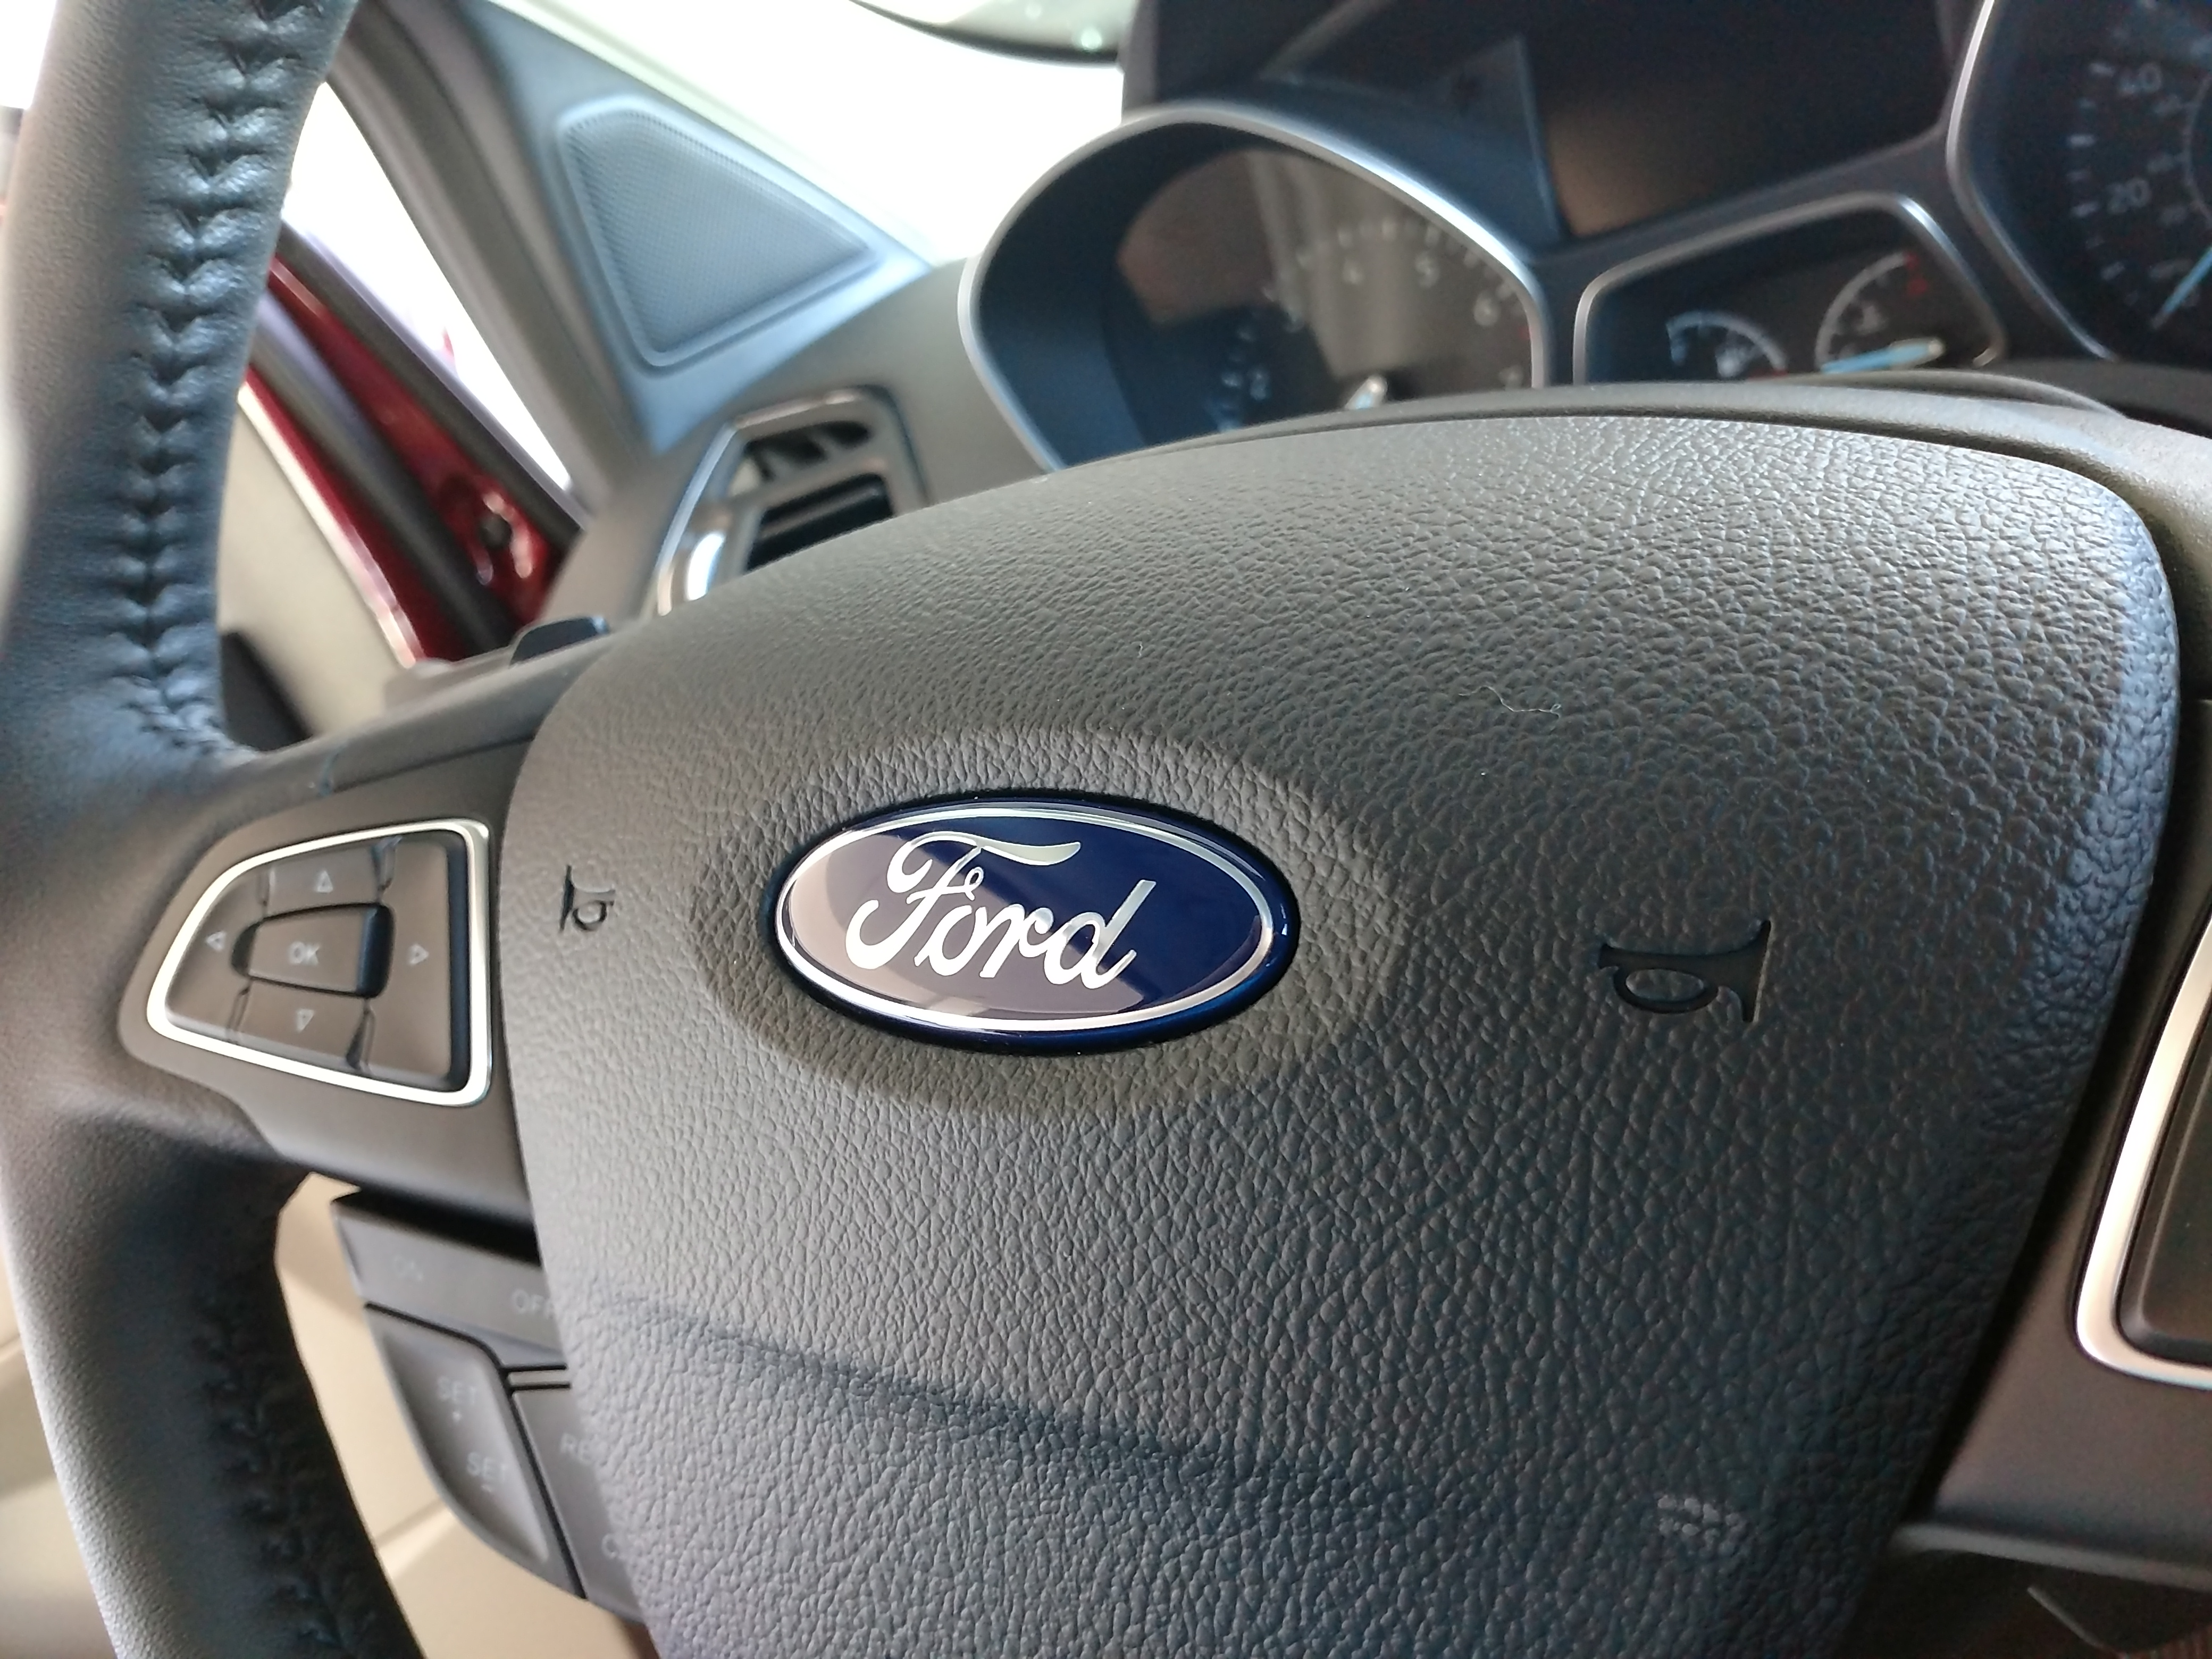Ford: (723, 779, 1357, 1096)
